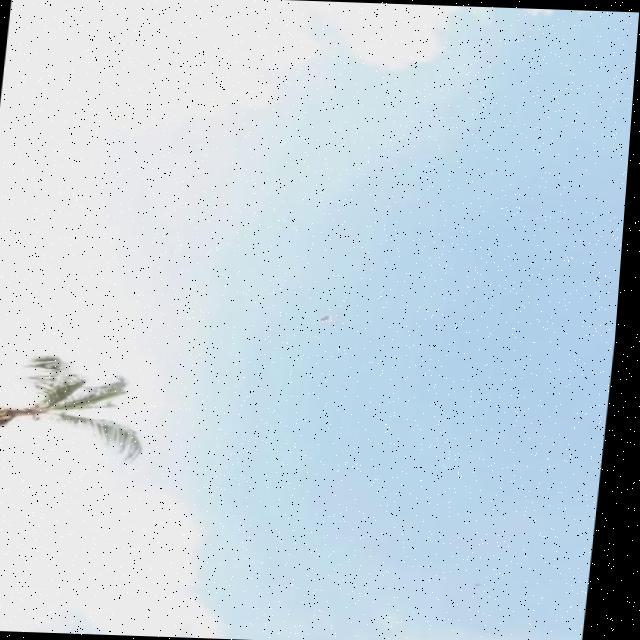drones: (318, 314, 339, 326)
